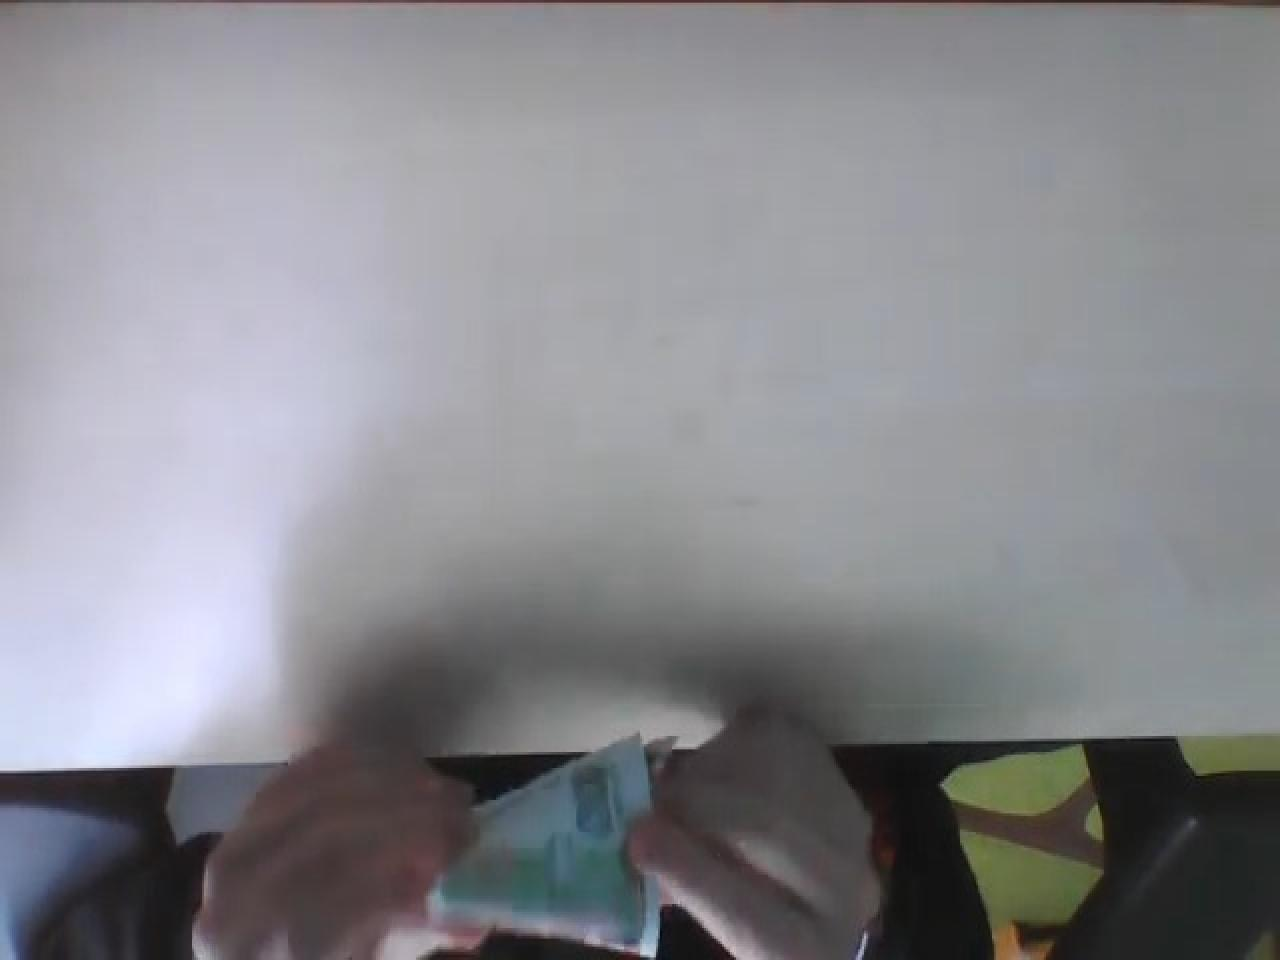100leva: (422, 733, 666, 958)
